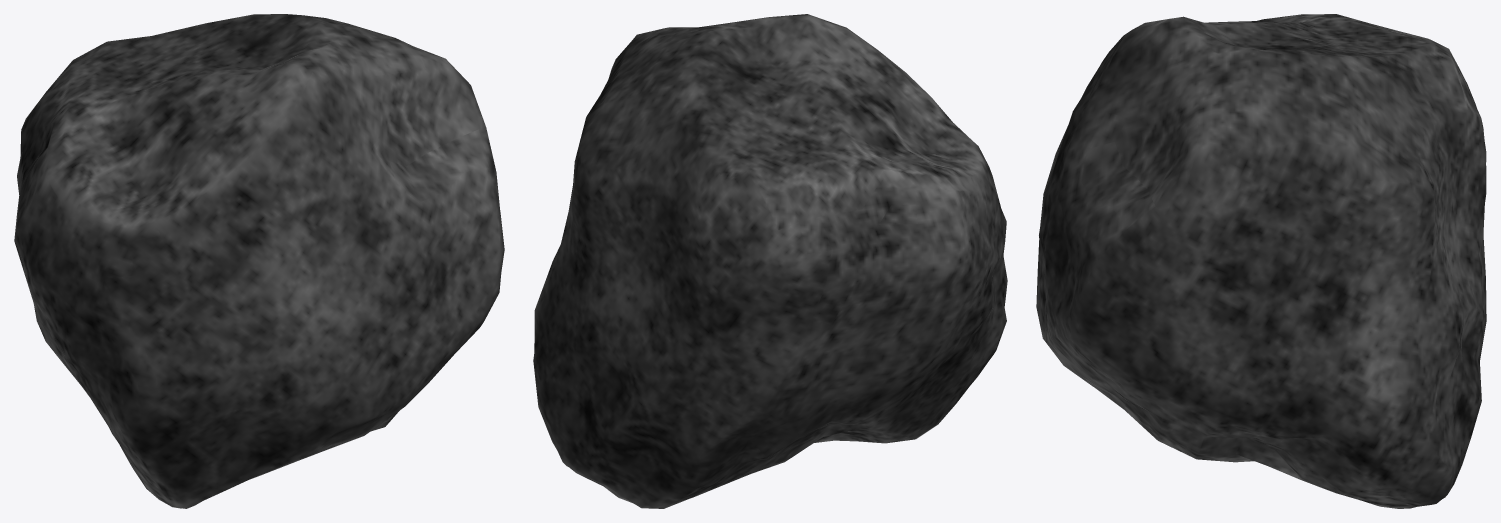
The picture shows the model from 3 angles, left to right: view 1: azimuth 30°, elevation 25°; view 2: azimuth 150°, elevation 25°; view 3: azimuth 270°, elevation 25°; orthographic projection. The views are drawn at different scales.
Visible parts, largest first — view 1: Asteroid_no_2_Material #3_0; view 2: Asteroid_no_2_Material #3_0; view 3: Asteroid_no_2_Material #3_0.
Boxes of the visible parts, <box> form: Asteroid_no_2_Material #3_0: <box>14,14,504,508</box>; Asteroid_no_2_Material #3_0: <box>533,14,1007,508</box>; Asteroid_no_2_Material #3_0: <box>1036,14,1486,508</box>.
Bounding box in the file's own units: 5.75 × 5.91 × 5.27.
Materials: 1 (1 with a texture image).
